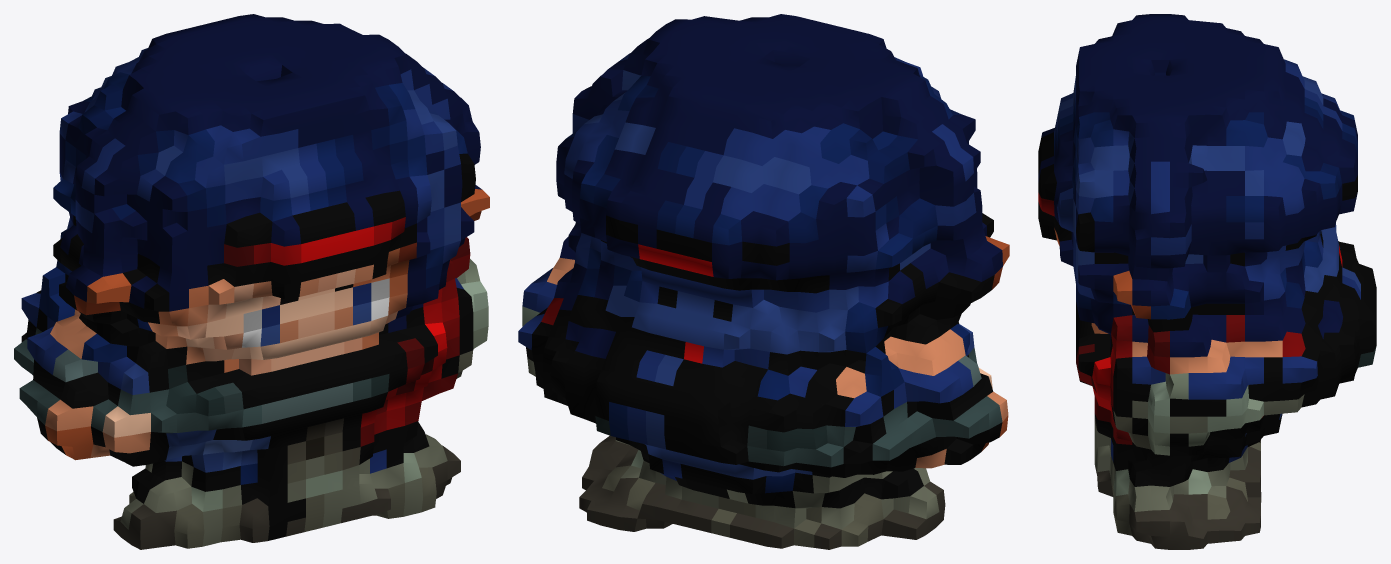
Rendered from Icon_101_01.obj.
3 views of the same model, side by side, from view 1: azimuth 30°, elevation 25°; view 2: azimuth 150°, elevation 25°; view 3: azimuth 270°, elevation 25° (orthographic). The views are drawn at different scales.
Bounding box in the file's own units: 2.4 × 2.4 × 1.8.
Materials: 1 (1 with a texture image).
